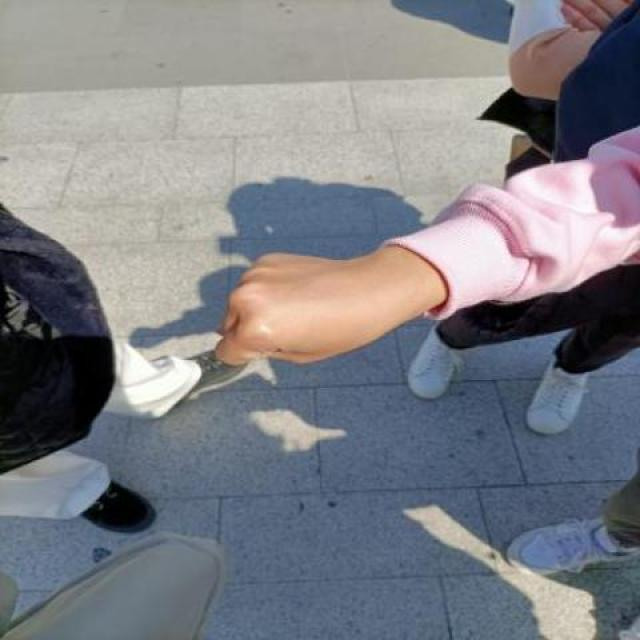fist: (201, 234, 435, 393)
